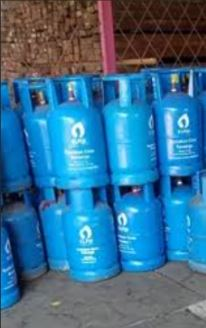blue_gas: (48, 78, 109, 185), (102, 71, 158, 184), (63, 189, 119, 284), (155, 70, 202, 174), (21, 79, 65, 189), (112, 184, 166, 271), (5, 191, 48, 281), (1, 81, 30, 192), (41, 191, 76, 275), (160, 177, 195, 261), (187, 168, 206, 270), (1, 225, 21, 310)
